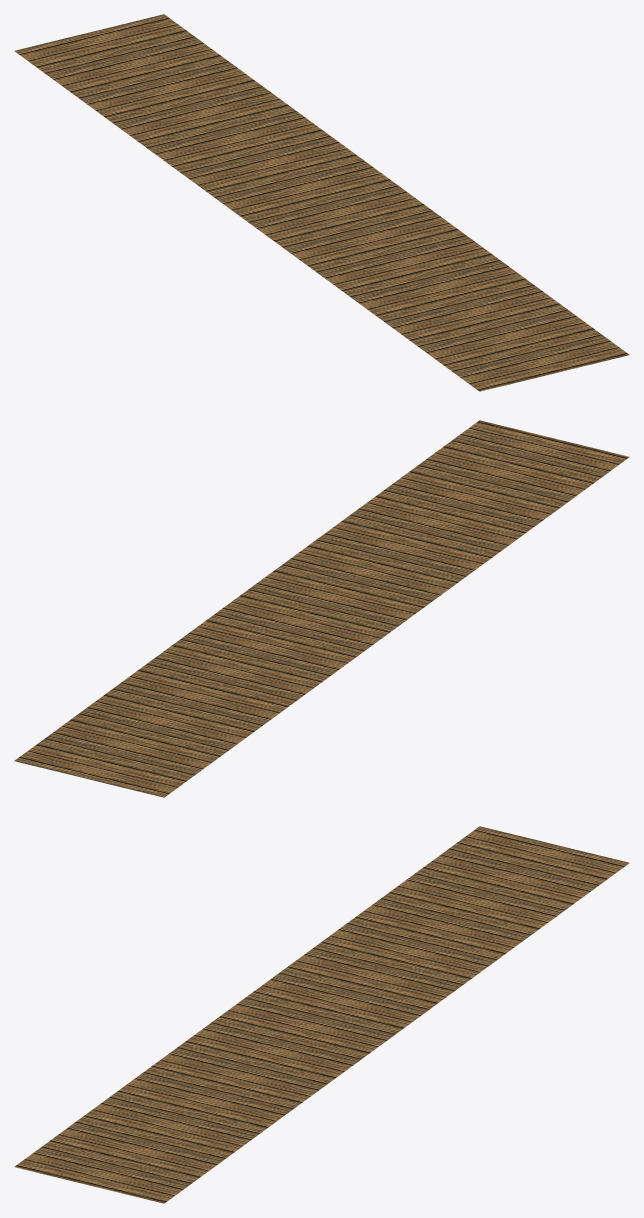
The model's file is LAKETOWN_EXTERIOR_PS_LT_PIER_WOOD10.fbx.
3 views of the same model, one above another, from view 1: azimuth 30°, elevation 25°; view 2: azimuth 150°, elevation 25°; view 3: azimuth 330°, elevation 25° (orthographic).
Parts seen in each view (by area): view 1: LAKETOWN_EXTERIOR_PS_LT_PIER_WOOD10; view 2: LAKETOWN_EXTERIOR_PS_LT_PIER_WOOD10; view 3: LAKETOWN_EXTERIOR_PS_LT_PIER_WOOD10.
Part boxes in pixels (bbox=[...]): LAKETOWN_EXTERIOR_PS_LT_PIER_WOOD10: bbox=[14, 14, 629, 391]; LAKETOWN_EXTERIOR_PS_LT_PIER_WOOD10: bbox=[14, 420, 629, 797]; LAKETOWN_EXTERIOR_PS_LT_PIER_WOOD10: bbox=[14, 826, 629, 1203].
Size of the model in its own units: 49936 by 0.1074 by 268041.
Materials: 1 (1 with a texture image).
